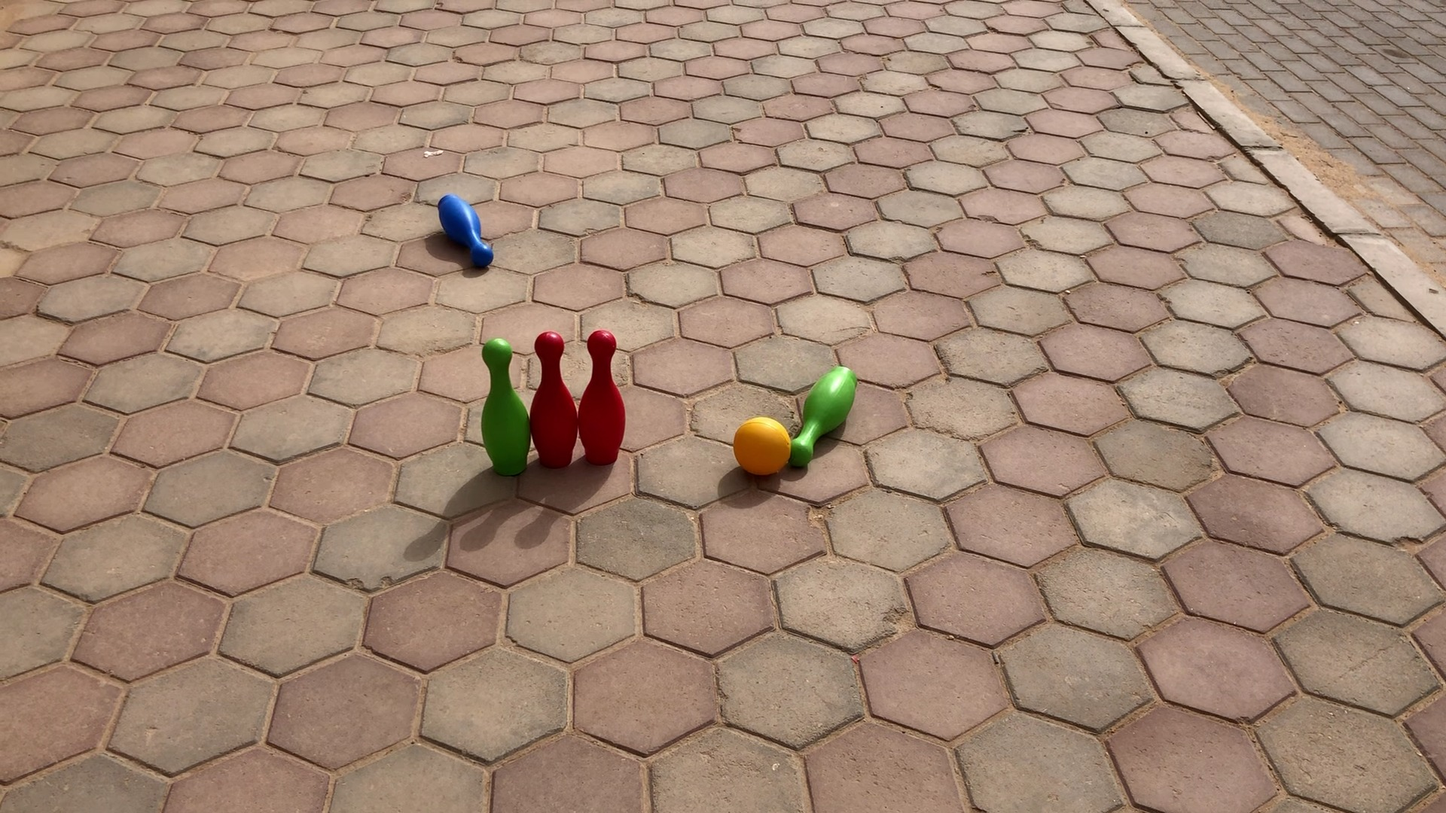bowling-pin: (481, 335, 529, 475), (574, 328, 621, 464), (526, 331, 572, 468), (801, 367, 855, 460), (438, 194, 496, 268)
